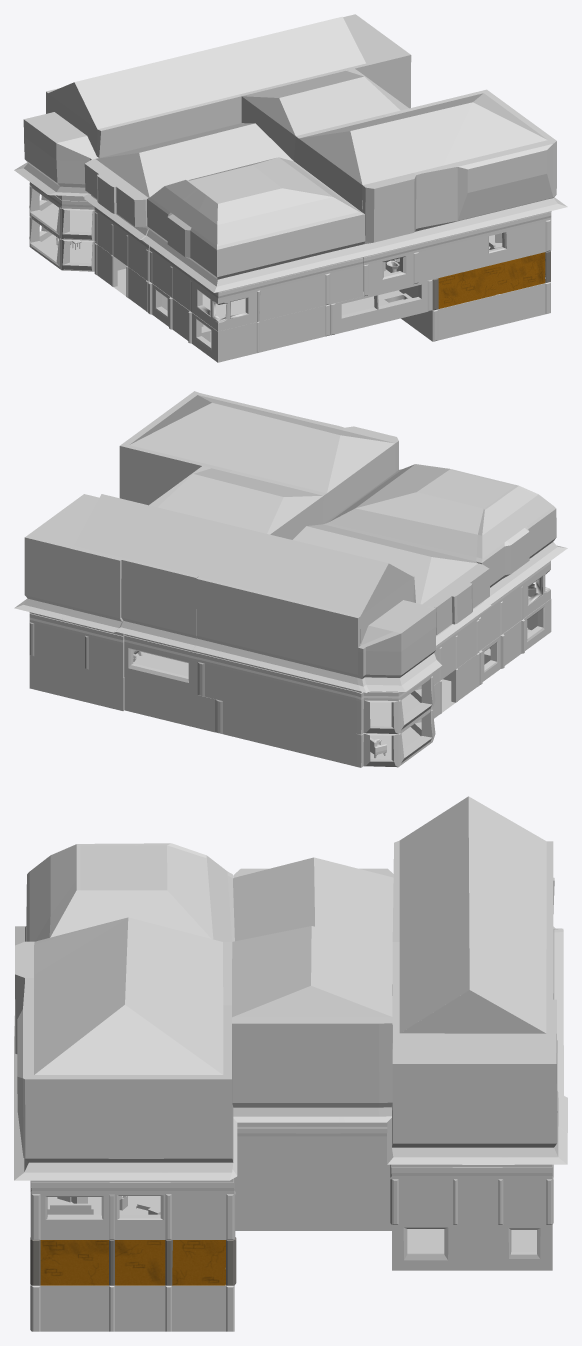
The model's file is Full House(0.1 scale).fbx.
The picture shows the model from 3 angles, top to bottom: view 1: azimuth 30°, elevation 25°; view 2: azimuth 150°, elevation 25°; view 3: azimuth 270°, elevation 25°; orthographic projection. The views are drawn at different scales.
Visible parts, largest first — view 1: roof2, Dinning room.001, Dinning room, kitchen .001, Basement, kitchen, Kitchen room, Main Bedroom, library, Entrance room.001, Kitchen room.001, Entrance room; view 2: roof2, Main Bedroom, library, secret room (dinning room).001, Secret secret room, secret room (dinning room), Dinning room.001, Secret secret room .001, Dinning room, Entrance room.001, Entrance room; view 3: roof2, kitchen .001, Basement, kitchen, Secret secret room .001, staircase room.001, Secret secret room, staircase room, bed.001.
Boxes of the visible parts, x1,y1,x2,y2 form: roof2: (14,14,567,292); Dinning room.001: (149,246,363,331); Dinning room: (148,281,330,362); kitchen .001: (362,200,551,284); Basement: (401,278,550,341); kitchen: (432,251,550,310); Kitchen room: (330,279,432,335); Main Bedroom: (29,182,95,240); library: (29,216,95,271); Entrance room.001: (95,208,149,281); Kitchen room.001: (363,245,413,296); Entrance room: (94,243,148,312); roof2: (14,391,567,692); Main Bedroom: (197,653,435,734); library: (215,699,435,767); secret room (dinning room).001: (88,628,197,694); Secret secret room: (29,655,124,710); secret room (dinning room): (124,677,214,732); Dinning room.001: (479,561,550,650); Secret secret room .001: (29,613,88,669); Dinning room: (479,599,551,684); Entrance room.001: (360,615,479,685); Entrance room: (432,653,479,718); roof2: (14,796,567,1182); kitchen .001: (30,1178,235,1239); Basement: (30,1284,234,1331); kitchen: (30,1181,236,1285); Secret secret room .001: (390,1164,553,1224); staircase room.001: (234,1127,390,1185); Secret secret room: (392,1225,552,1270); staircase room: (234,1185,391,1230); bed.001: (47,1197,93,1214).
Bounding box in the file's own units: 3798 × 1946 × 3269.
